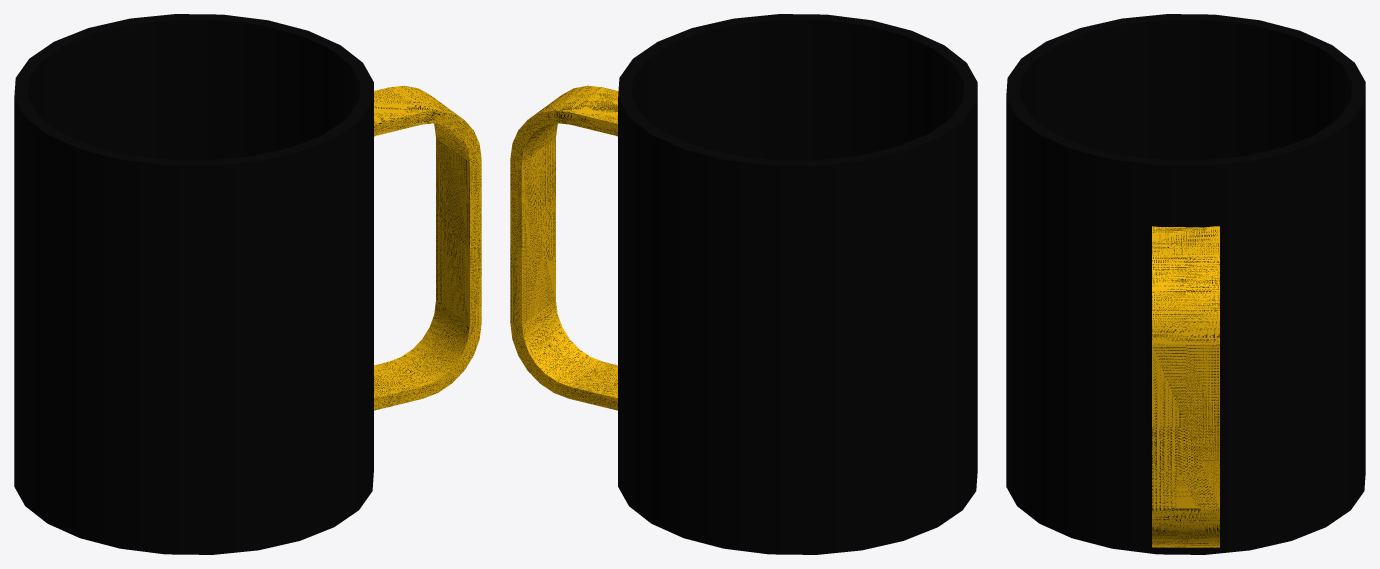
Rendered from mug_14_origin_gt_1.dae.
3 renders of one model, left to right at view 1: azimuth 30°, elevation 25°; view 2: azimuth 150°, elevation 25°; view 3: azimuth 270°, elevation 25°, orthographic.
Parts seen in each view (by area): view 1: Coffee_Mug (×3); view 2: Coffee_Mug (×3); view 3: Coffee_Mug (×3).
Part boxes in pixels (<box>): Coffee_Mug (×3): <box>14,14,481,554</box>; Coffee_Mug (×3): <box>510,14,977,554</box>; Coffee_Mug (×3): <box>1006,14,1365,554</box>.
Size of the model in its own units: 4.29 by 3.13 by 3.74.
